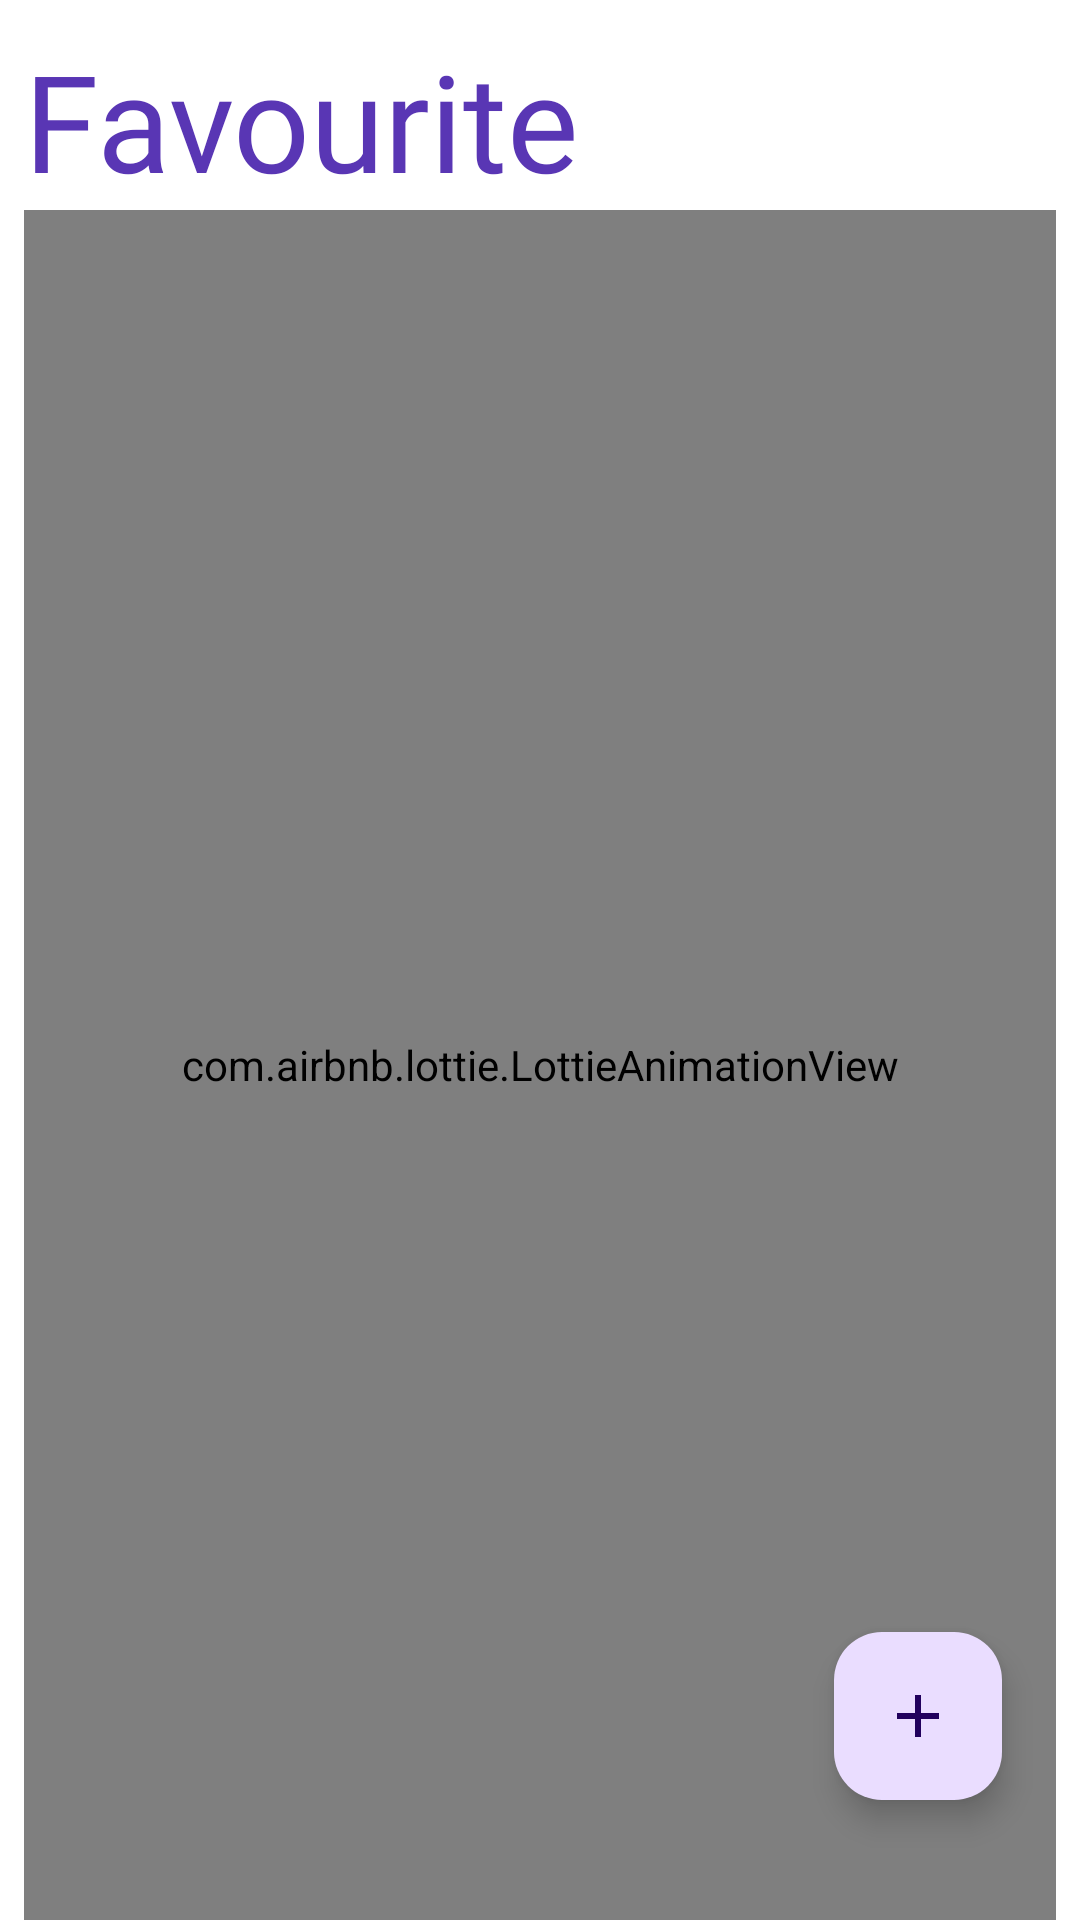

Point at icon controls on the screen. Image size 1080x1920, points as [x,y].
add: [918,1716]
